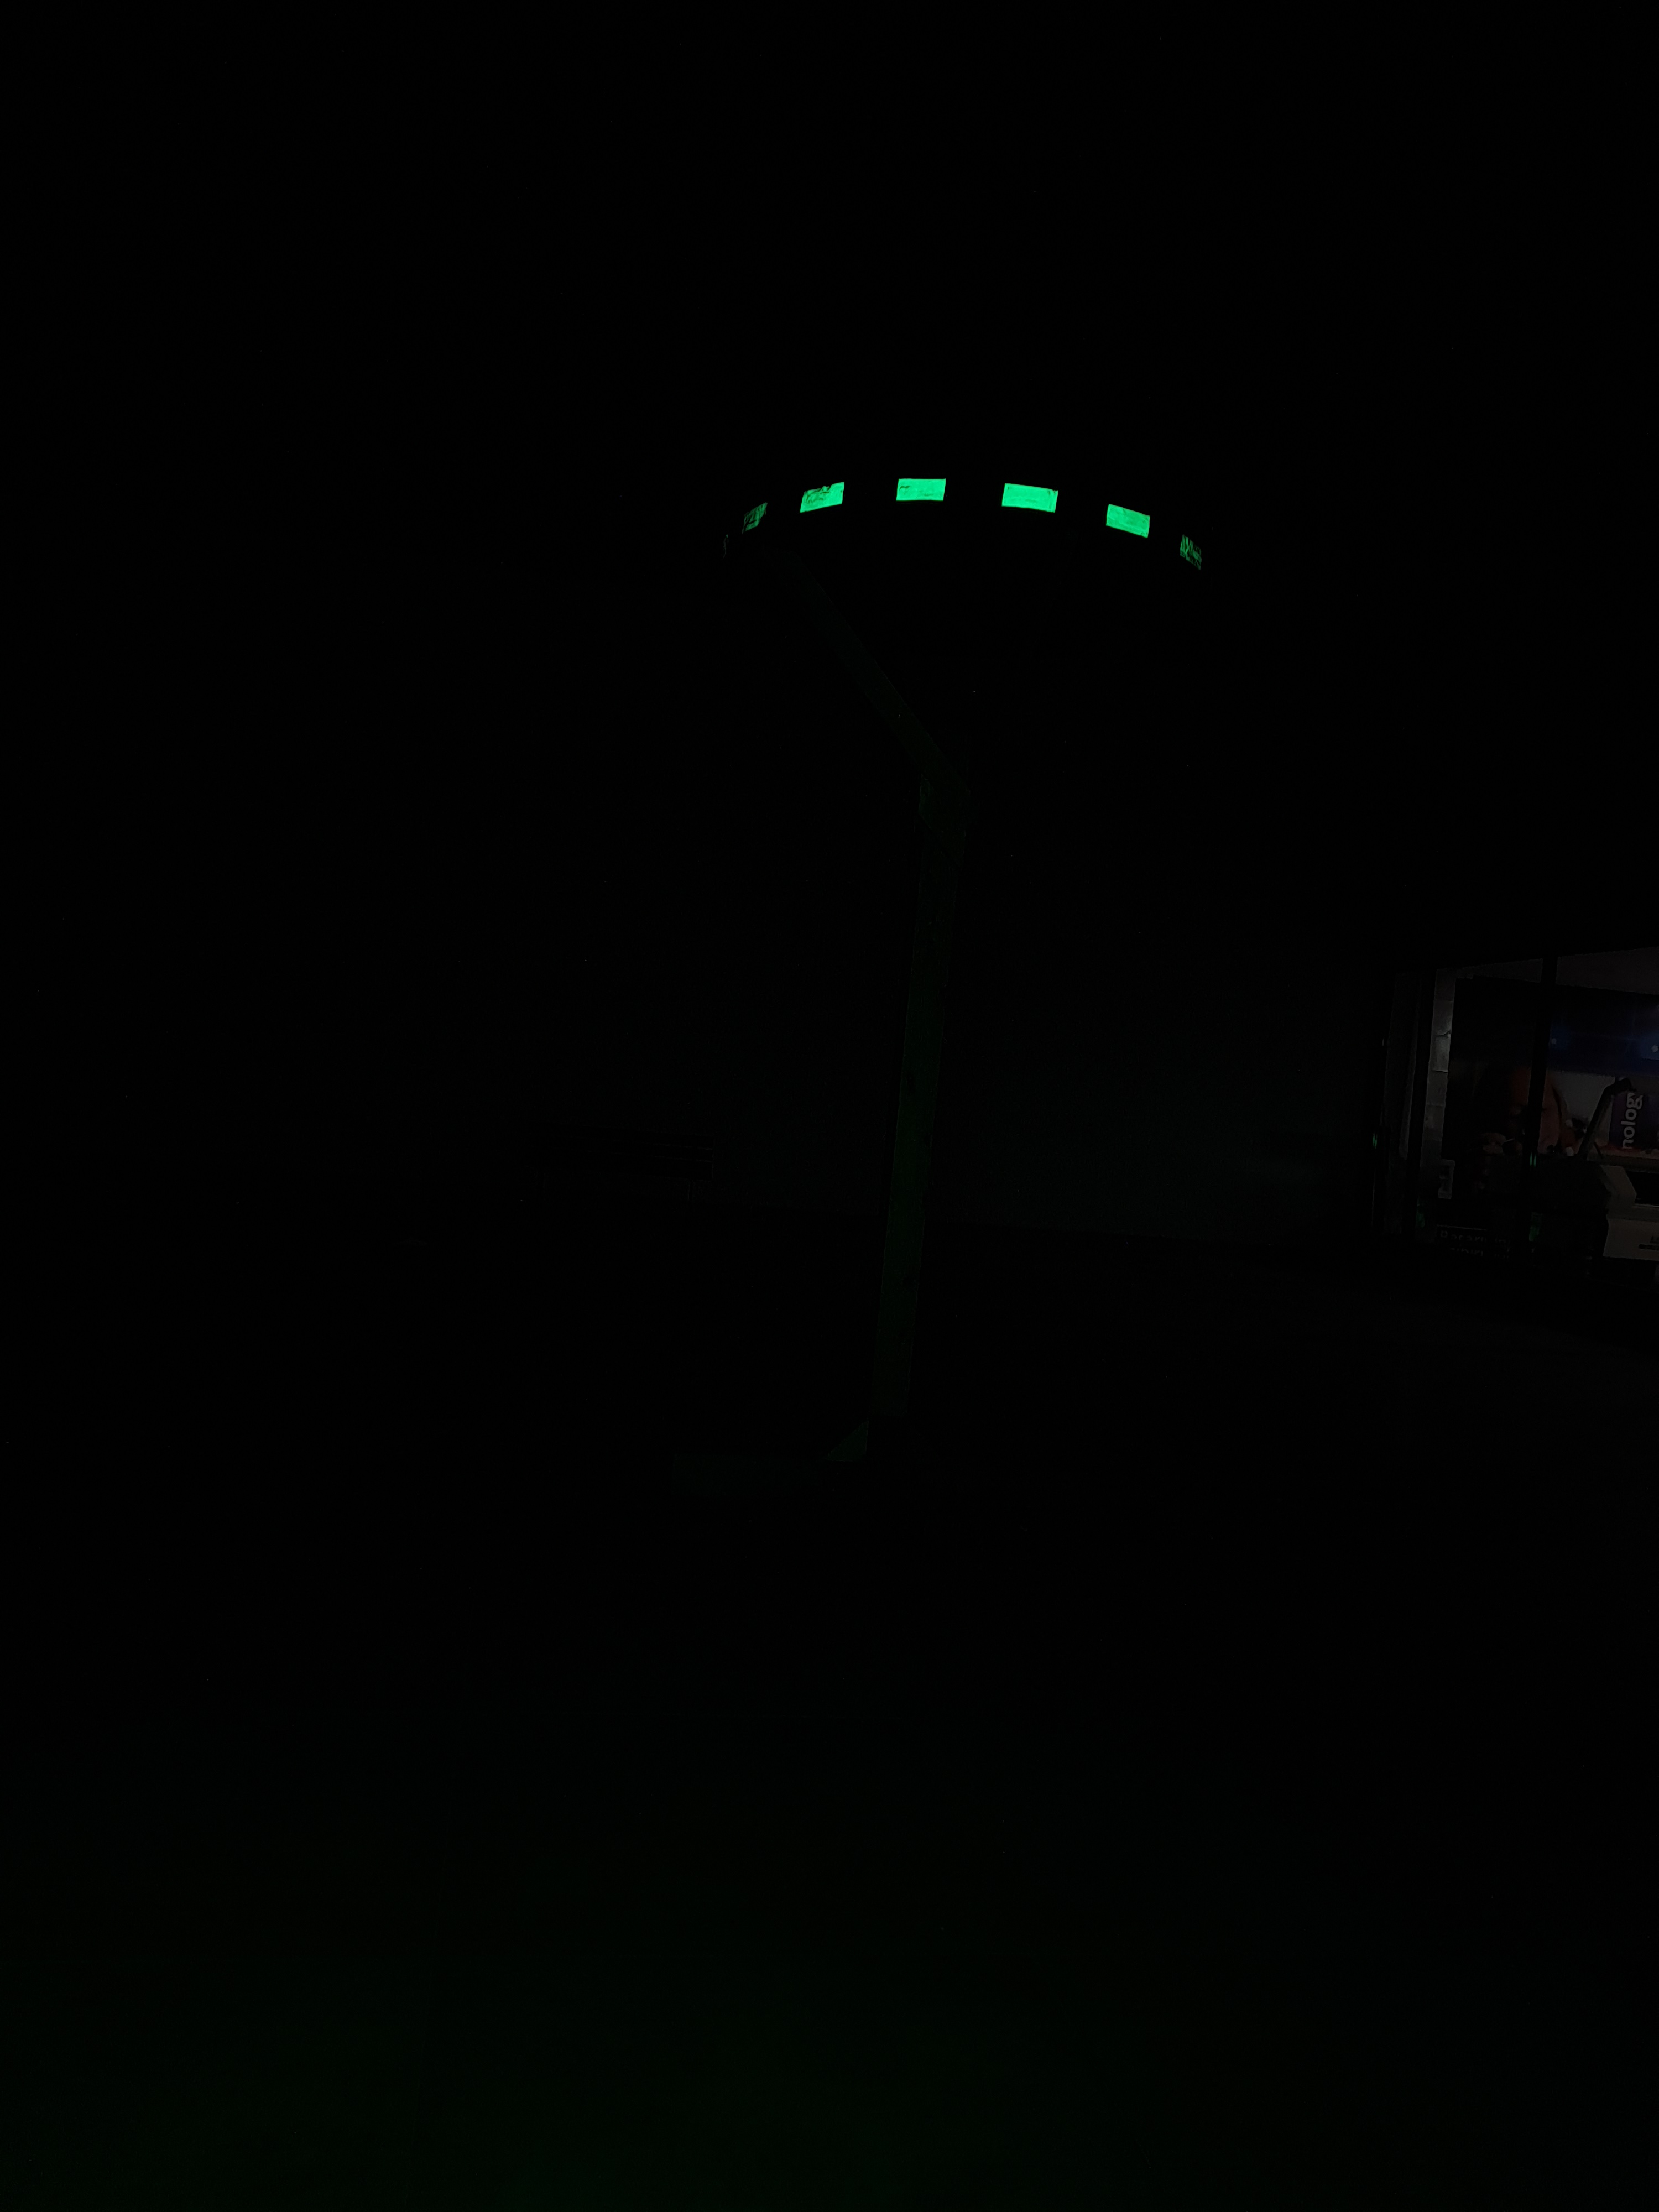hoop: (688, 442, 1236, 594)
